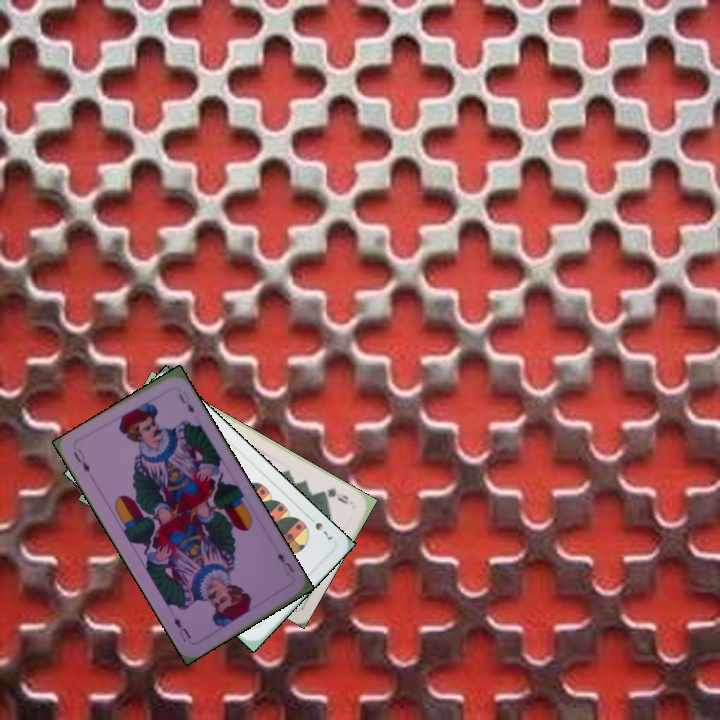EU: (69, 445, 93, 476), (273, 548, 297, 576)
G9: (318, 484, 351, 507)
S7: (311, 518, 336, 543)
